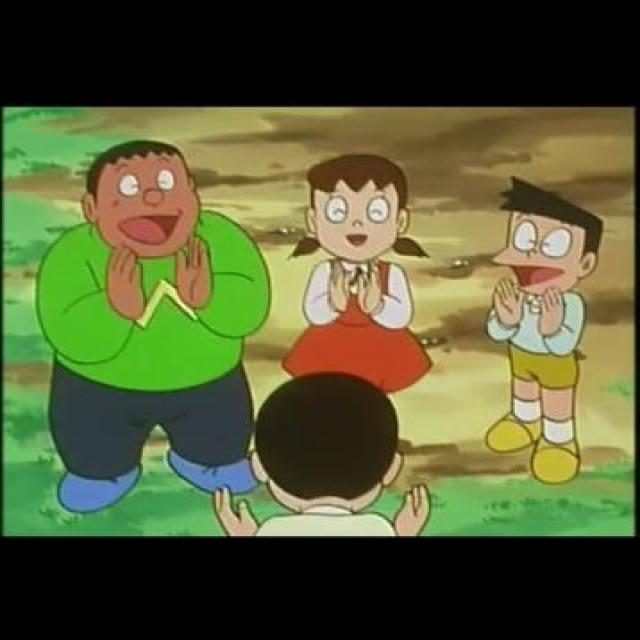jaian: (79, 138, 207, 258)
shizuka: (286, 149, 427, 262)
suneo: (483, 171, 604, 301)
